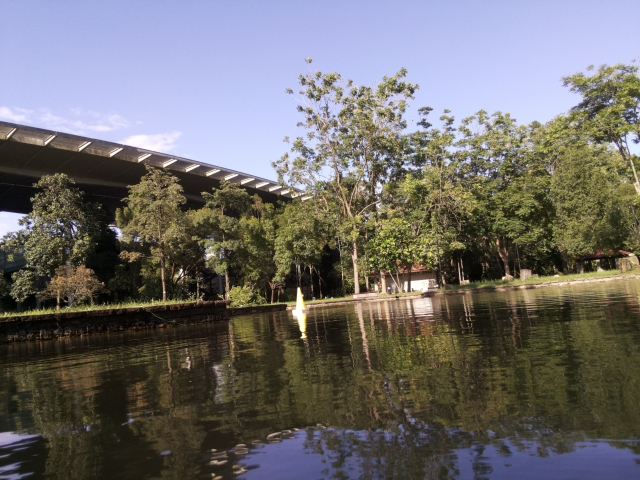checkpoint: (292, 286, 308, 315)
